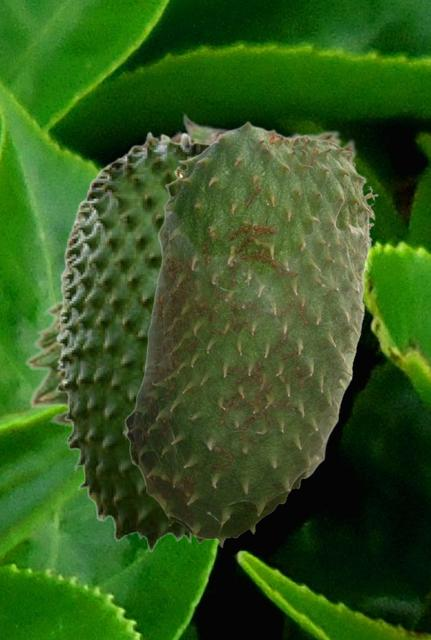guyabano: (23, 112, 370, 430), (122, 120, 377, 546), (55, 131, 210, 551)
